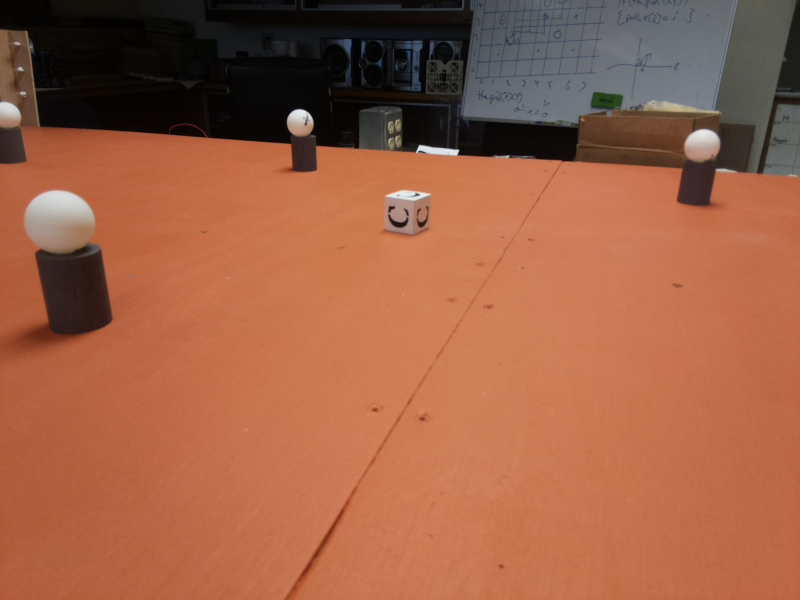blockC: (384, 187, 431, 241)
corner: (4, 28, 35, 103)
obstacle: (35, 187, 109, 335), (678, 131, 727, 205), (281, 105, 321, 179), (1, 104, 26, 165)
